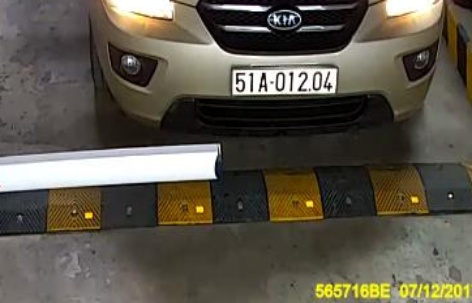plate: (225, 62, 348, 99)
